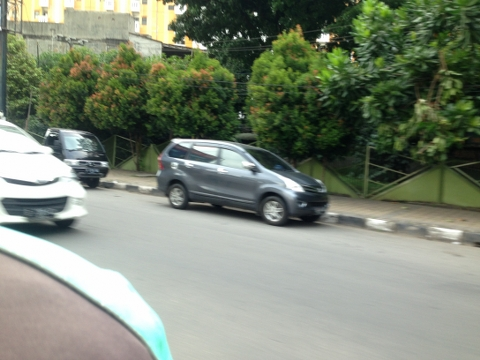mobil: (155, 137, 329, 226), (2, 120, 87, 230), (43, 127, 108, 188)
